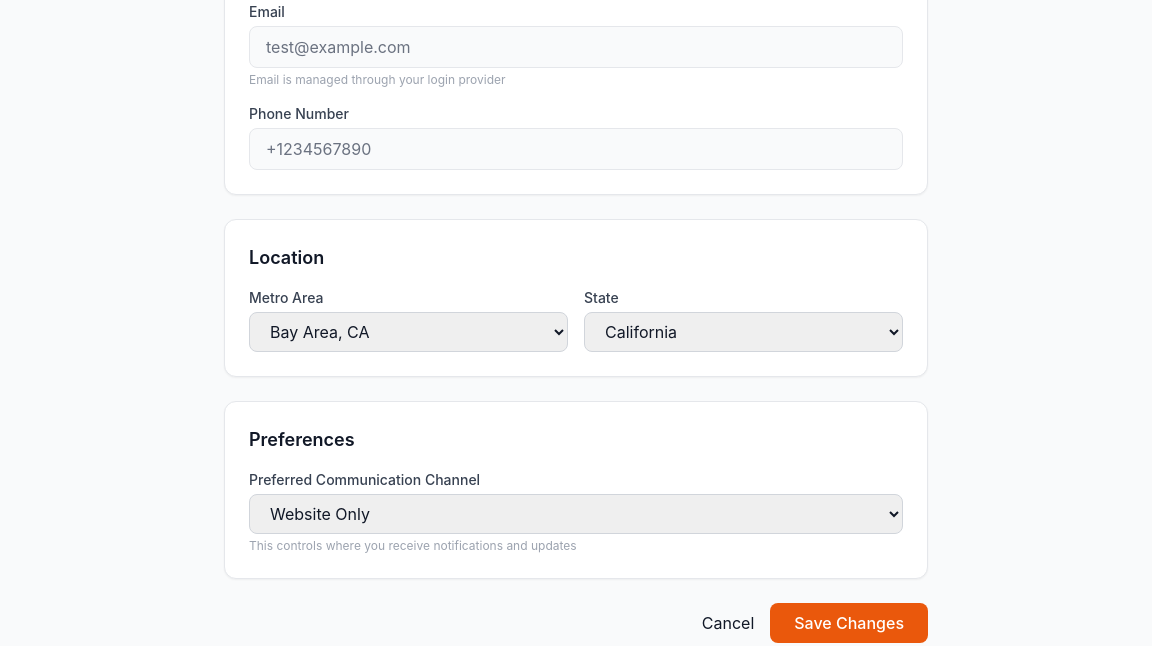
Test: EditProfilePage › Successful Submission › shows success message on successful submission
(page scrolled)
Click the button "Save Changes": (849, 623) x1=770 y1=603 x2=928 y2=643
(page scrolled)
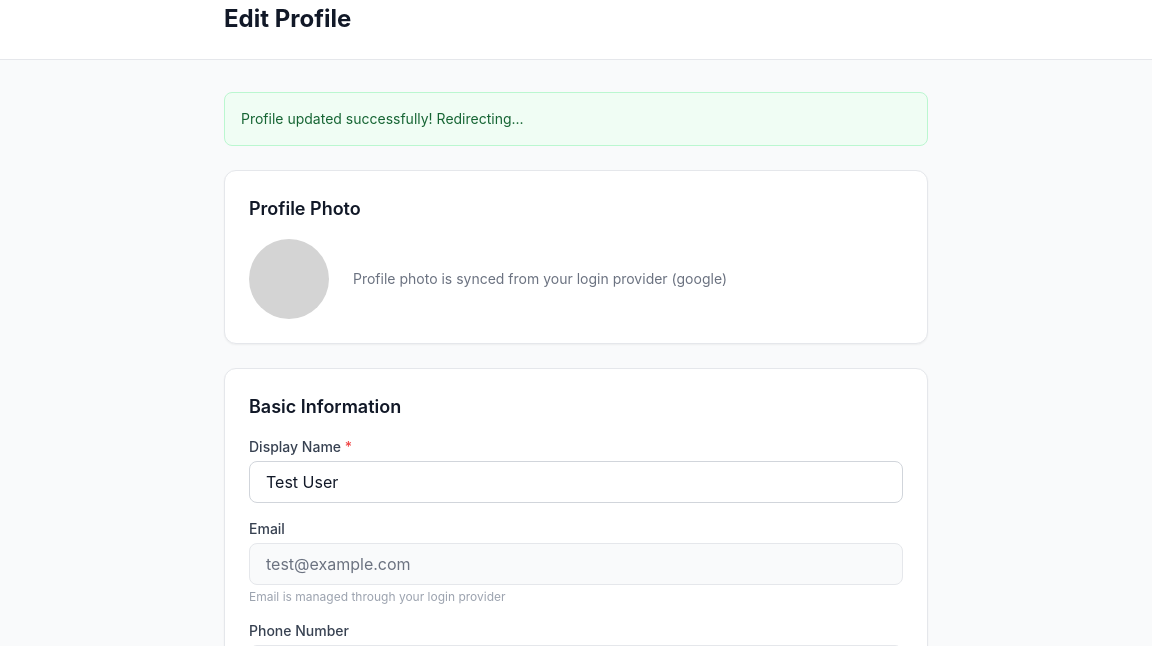
Now the text "Profile updated successfully! Redirecting..." is shown, box x1=224 y1=92 x2=928 y2=146
